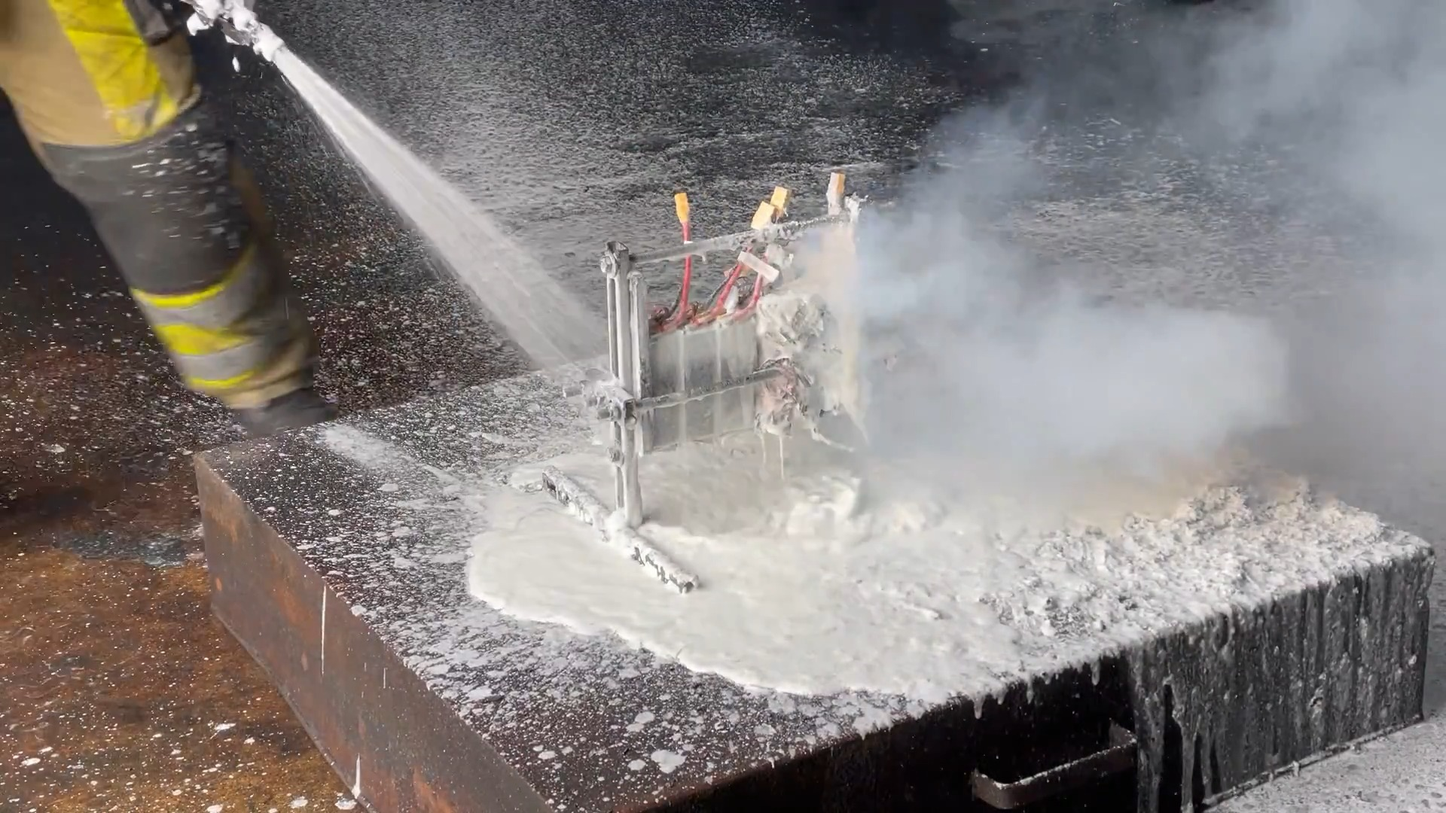smoke: (853, 0, 1446, 496)
